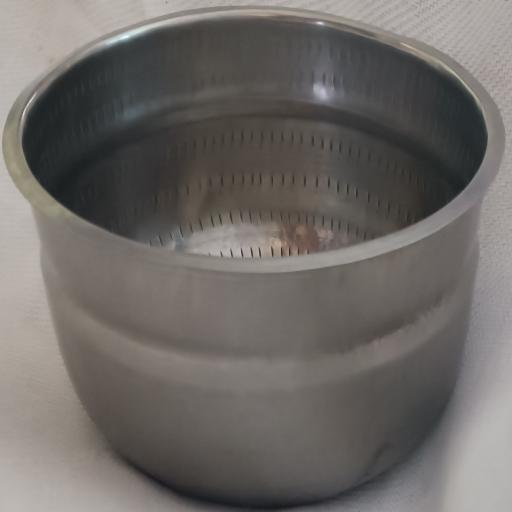vessel: (3, 8, 504, 505)
